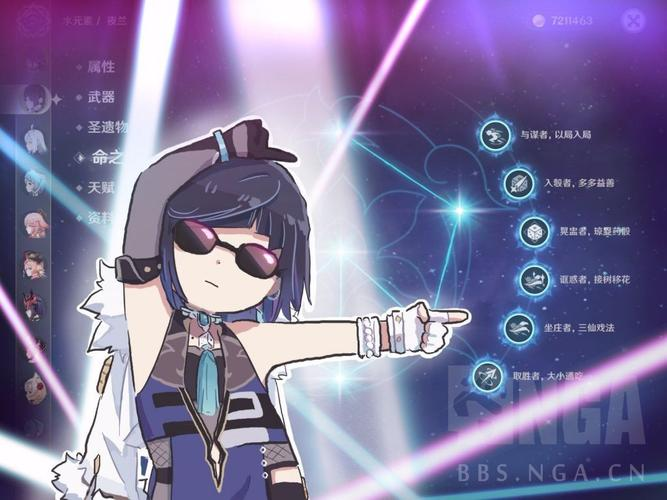夜兰: (116, 117, 471, 500), (18, 84, 51, 112)
